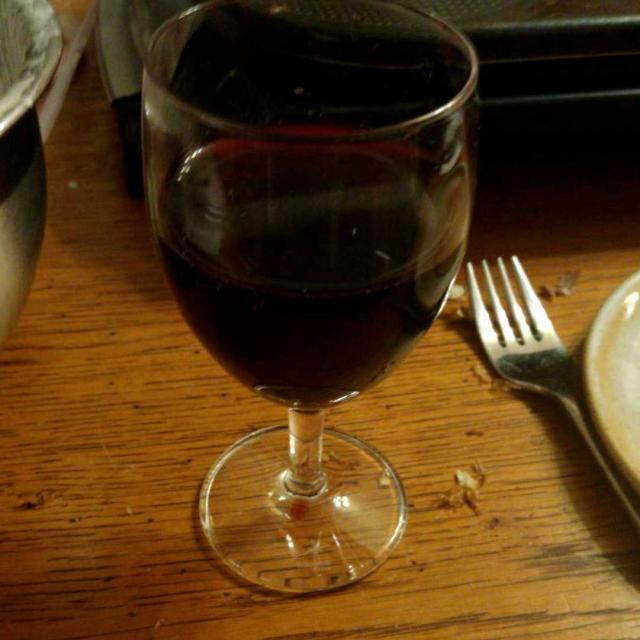wine-red: (151, 131, 461, 395)
